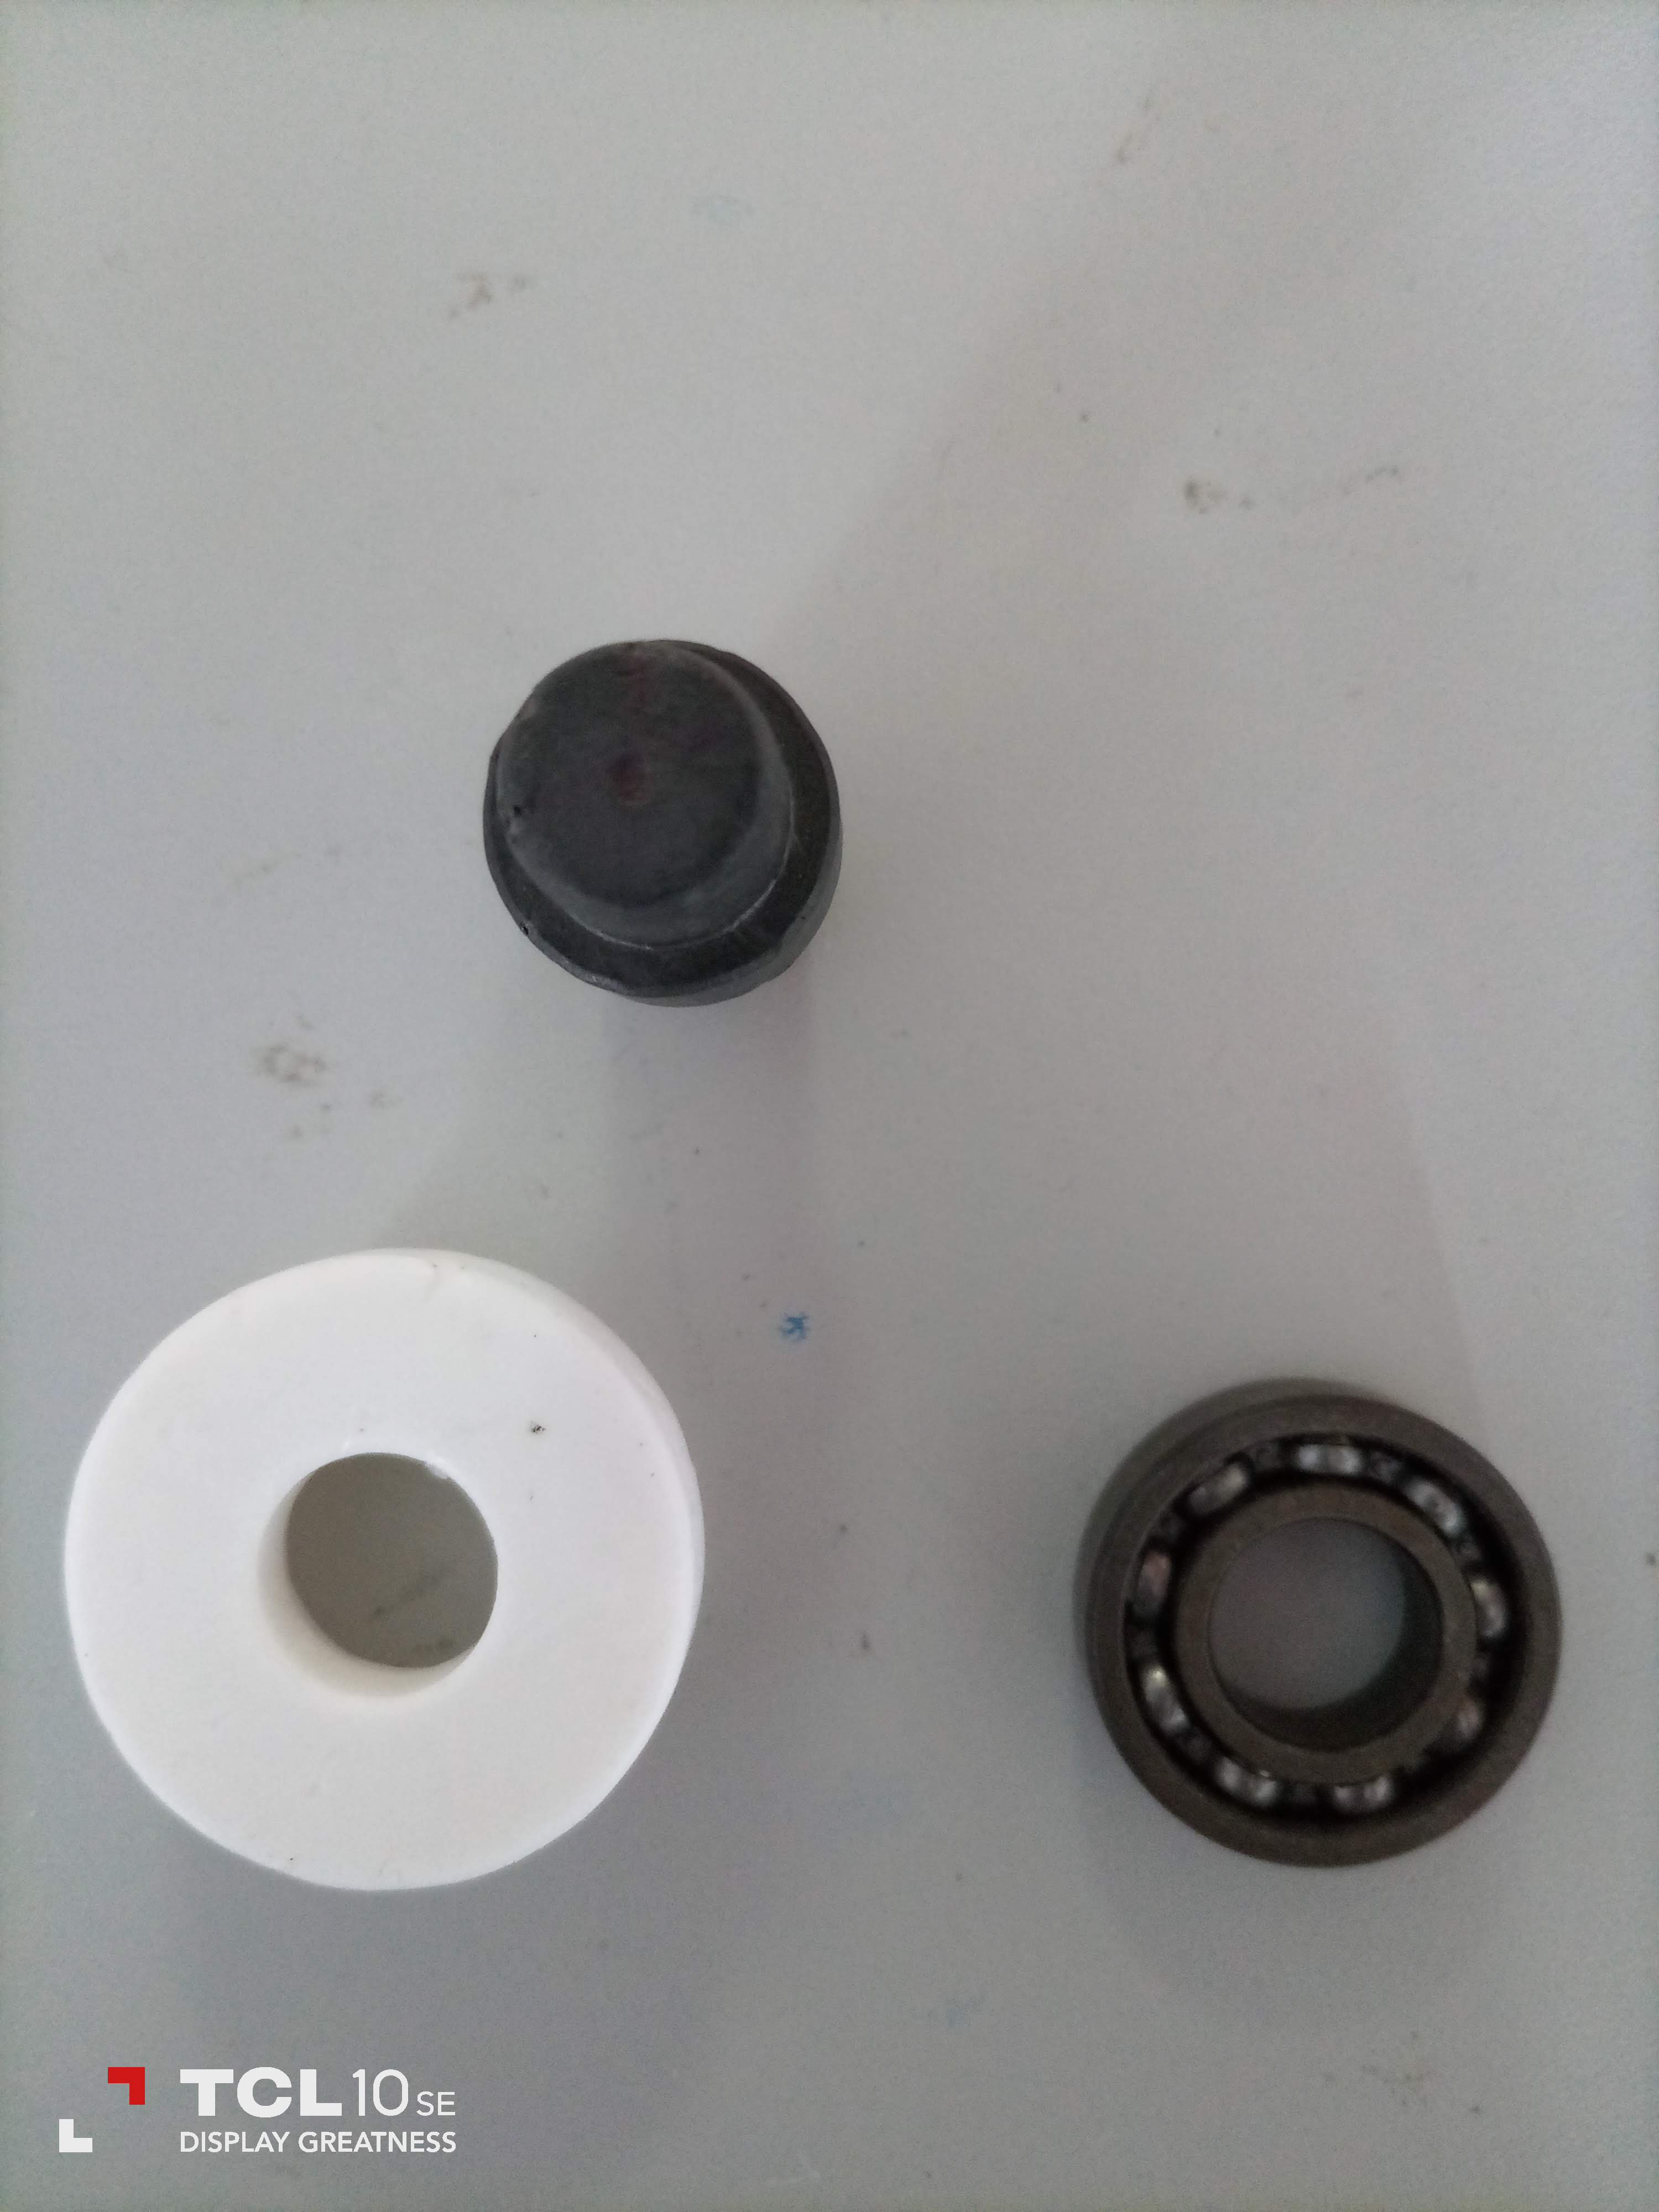Ardatza: (476, 631, 843, 998)
Roda: (1080, 1374, 1563, 1869)
Tapa: (66, 1235, 711, 1902)
